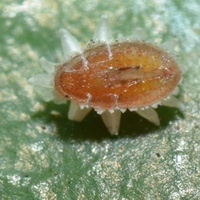insect: (54, 29, 180, 134)
